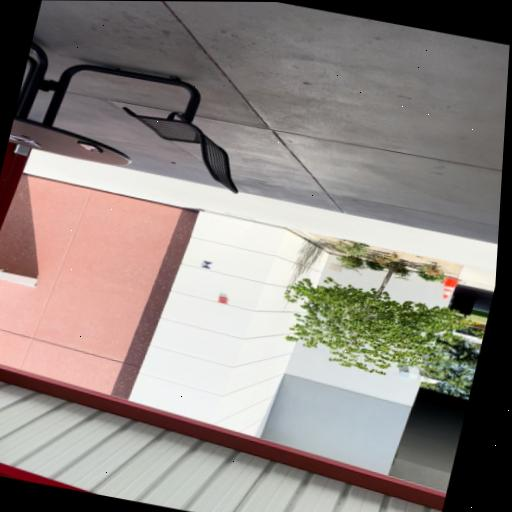target6: (200, 260, 212, 269)
